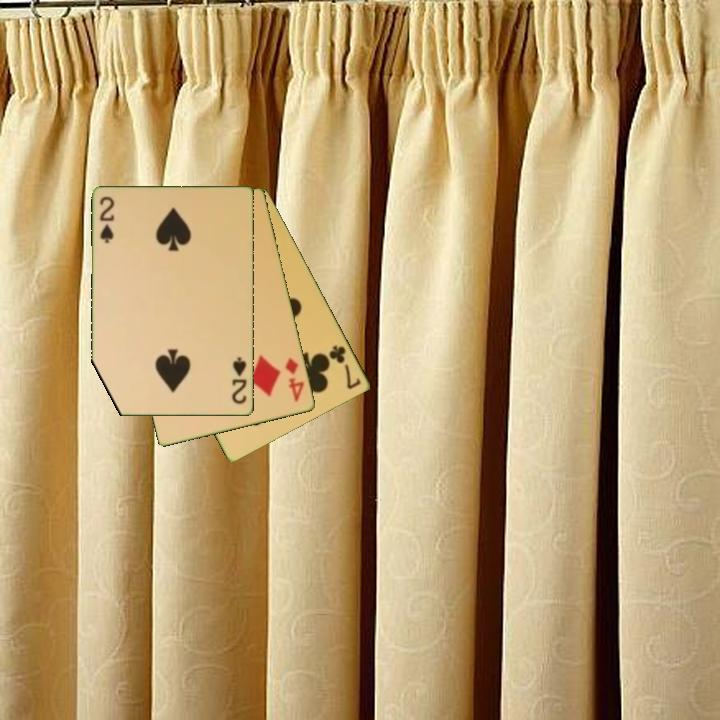2s: (229, 354, 250, 407), (96, 193, 117, 246)
4d: (282, 354, 307, 405)
7c: (326, 341, 364, 392)
